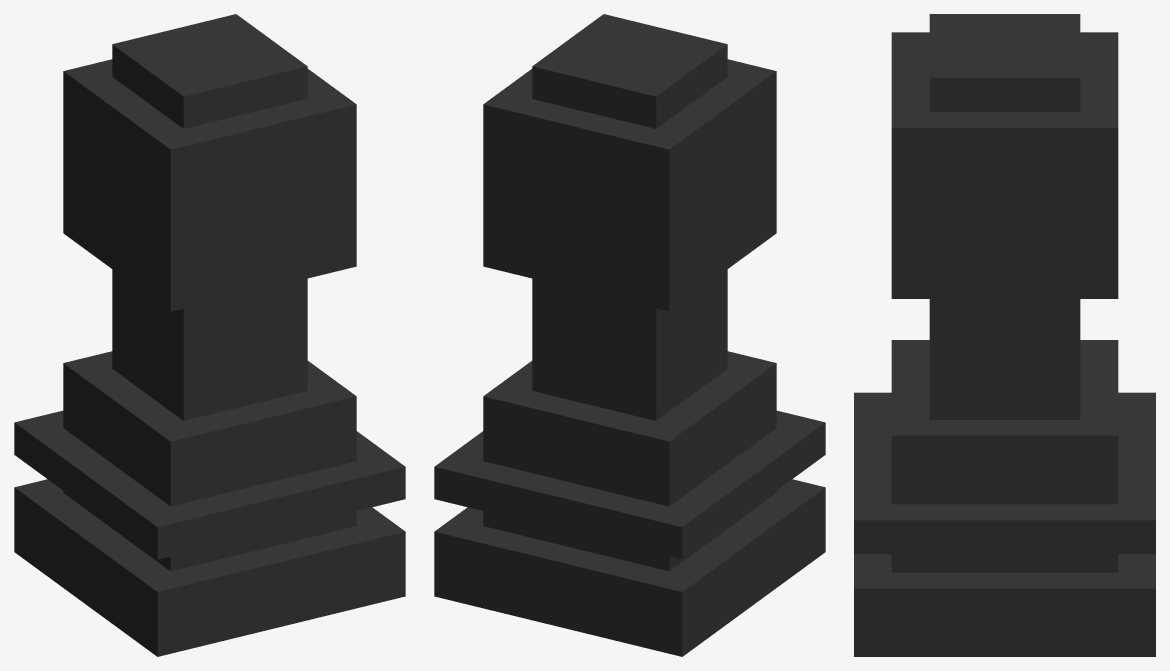
File: token-v1-black.gltf
3 views of the same model, side by side, from view 1: azimuth 30°, elevation 25°; view 2: azimuth 150°, elevation 25°; view 3: azimuth 270°, elevation 25° (orthographic). The views are drawn at different scales.
Parts seen in each view (by area): view 1: Untitled; view 2: Untitled; view 3: Untitled.
Part boxes in pixels (x1,y1,x2,y2): Untitled: [14, 14, 405, 656]; Untitled: [434, 14, 825, 656]; Untitled: [854, 14, 1155, 656].
Size of the model in its own units: 0.8 by 1.6 by 0.8.
Materials: 1 (1 with a texture image).
